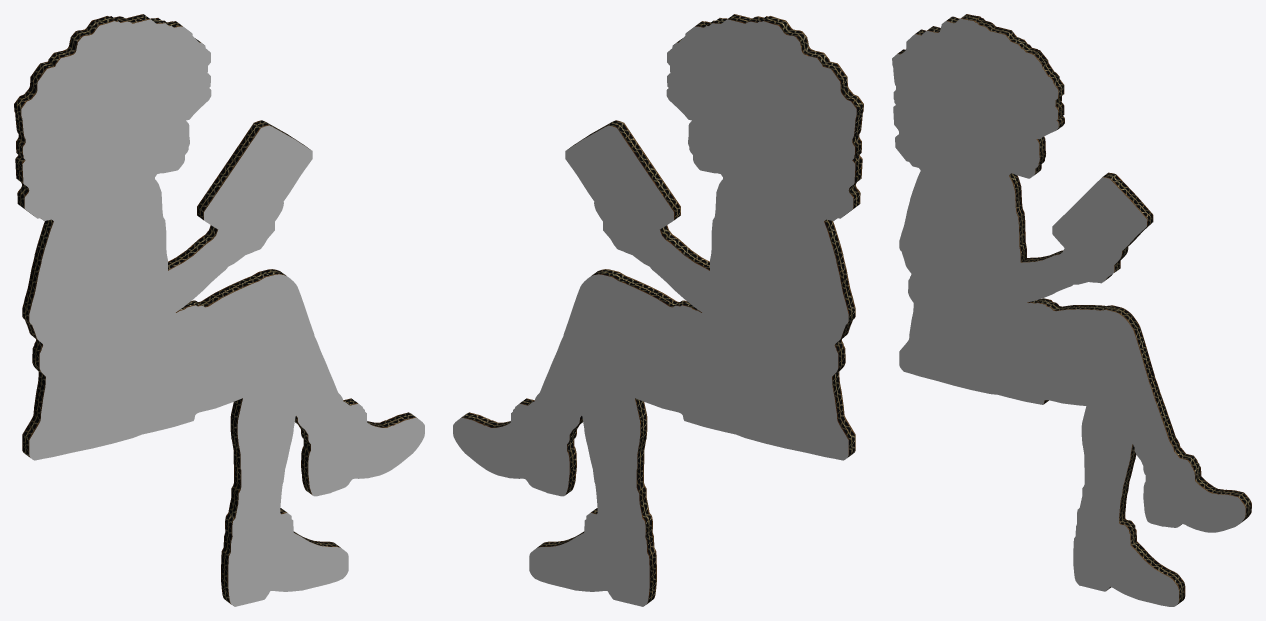
File: NPC_Cafe_Patron_Female_Reading.FBX
3 views of the same model, side by side, from view 1: azimuth 30°, elevation 25°; view 2: azimuth 150°, elevation 25°; view 3: azimuth 330°, elevation 25° (orthographic). The views are drawn at different scales.
Parts seen in each view (by area): view 1: NPC_Cafe_Patron_Female_Reading; view 2: NPC_Cafe_Patron_Female_Reading; view 3: NPC_Cafe_Patron_Female_Reading.
Boxes of the visible parts, <box> form: NPC_Cafe_Patron_Female_Reading: <box>14,14,424,606</box>; NPC_Cafe_Patron_Female_Reading: <box>453,14,863,606</box>; NPC_Cafe_Patron_Female_Reading: <box>892,14,1251,606</box>.
Size of the model in its own units: 39.97 by 58.22 by 1.24.
